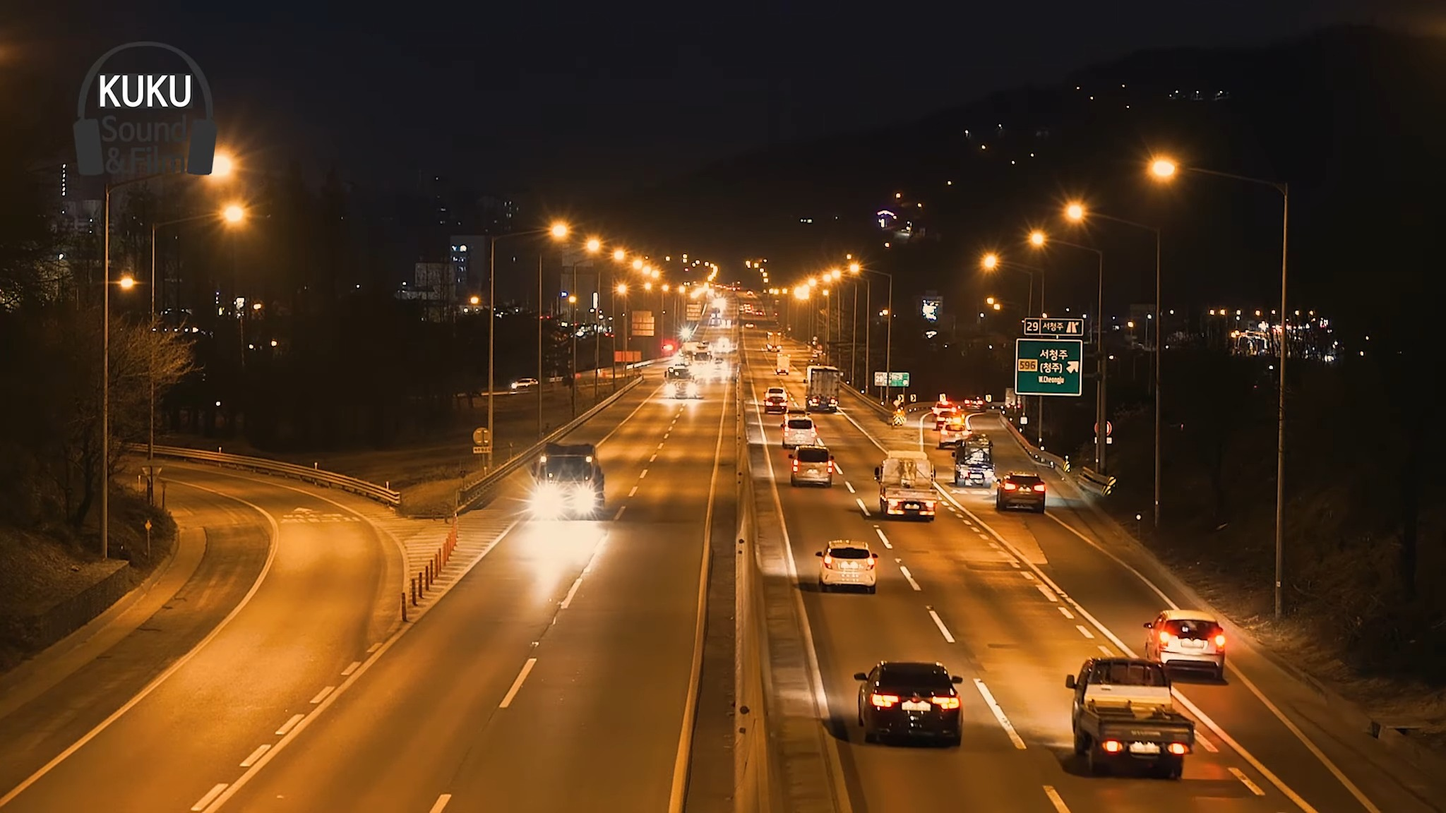car: (856, 653, 965, 744), (1152, 612, 1231, 675), (817, 540, 883, 591), (999, 470, 1048, 514)
truck: (1066, 648, 1202, 776), (530, 441, 606, 519), (874, 448, 942, 524)
